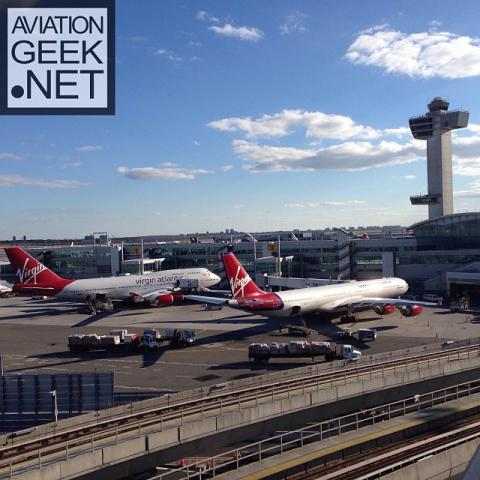truck: (249, 341, 361, 365), (67, 330, 157, 354), (143, 328, 197, 349), (424, 294, 440, 302), (410, 296, 420, 300)
